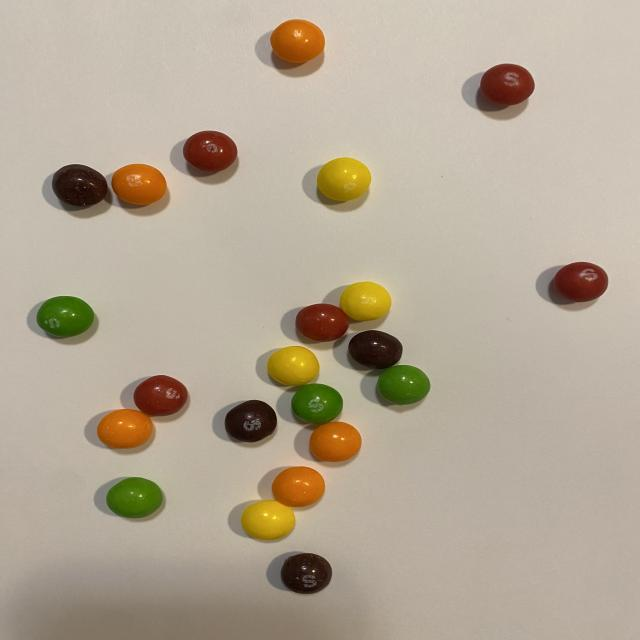smartie: (316, 157, 371, 201), (270, 18, 325, 62), (50, 164, 106, 206), (36, 296, 93, 337), (105, 478, 162, 519), (110, 163, 165, 205), (480, 63, 535, 105), (182, 130, 237, 172), (132, 375, 187, 416), (96, 409, 152, 449), (224, 400, 276, 443), (271, 467, 325, 508), (240, 501, 295, 541), (554, 262, 609, 302), (291, 384, 343, 425), (377, 365, 430, 405), (295, 303, 349, 342), (349, 330, 403, 369), (281, 554, 332, 595), (267, 346, 319, 386), (309, 422, 361, 462), (339, 282, 392, 321)
